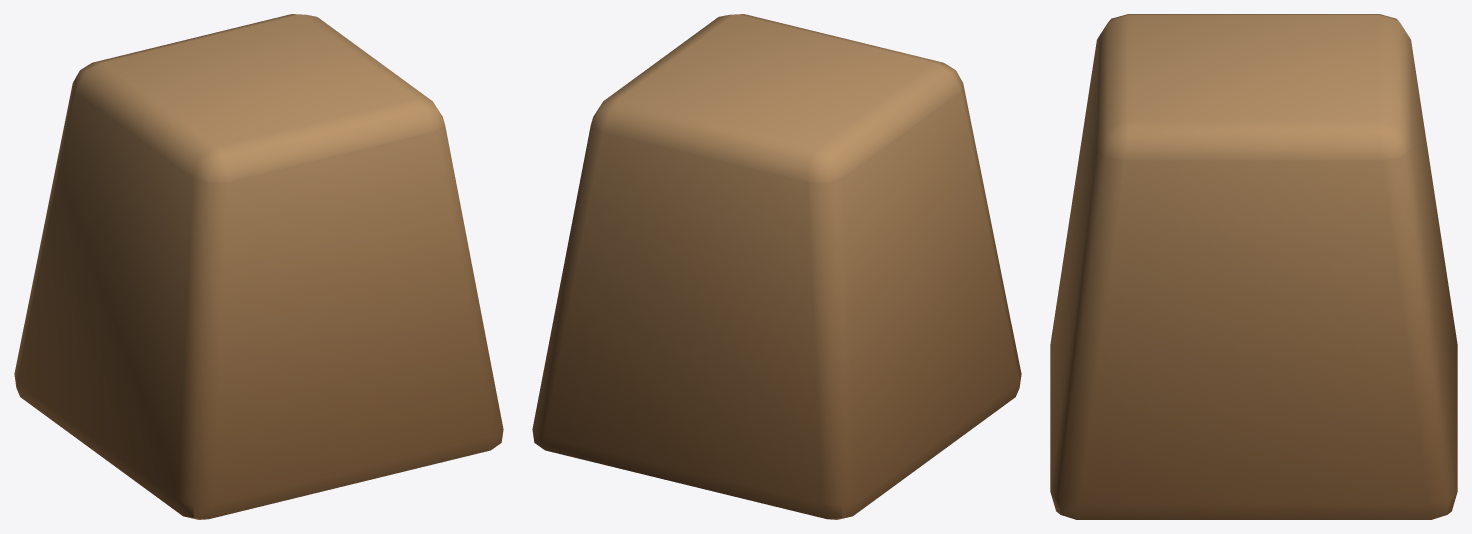
The model's file is Rock_2_D_Color5.fbx.
The picture shows the model from 3 angles, left to right: view 1: azimuth 30°, elevation 25°; view 2: azimuth 150°, elevation 25°; view 3: azimuth 270°, elevation 25°; orthographic projection. The views are drawn at different scales.
Visible parts, largest first — view 1: Rock_2_D_Color5; view 2: Rock_2_D_Color5; view 3: Rock_2_D_Color5.
Boxes of the visible parts, x1,y1,x2,y2 form: Rock_2_D_Color5: [14, 14, 503, 519]; Rock_2_D_Color5: [532, 14, 1021, 519]; Rock_2_D_Color5: [1050, 14, 1457, 519].
Bounding box in the file's own units: 1.71 × 1.74 × 1.71.
